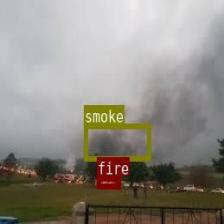fire: (96, 175, 120, 187)
smoke: (83, 122, 150, 160)
